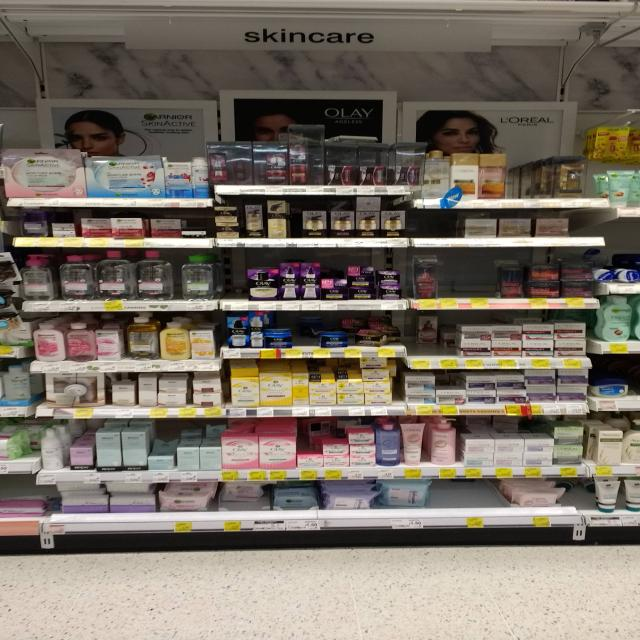void: (445, 257, 493, 297), (438, 480, 496, 508), (513, 152, 539, 197), (416, 212, 455, 238)
